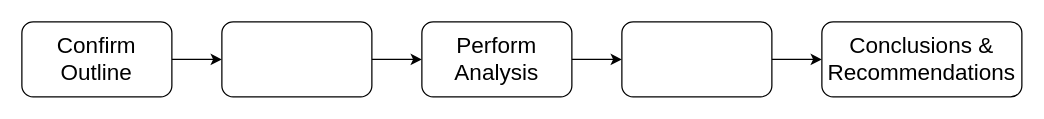
The diagram is 1044 pixels wide and 119 high, and some of its shapes have lost their labels. The box of each missing label's shape, as (x1, y1, x2, y2) in pixels:
Build Model: (621, 21, 772, 97)
Read Data: (221, 21, 372, 97)
